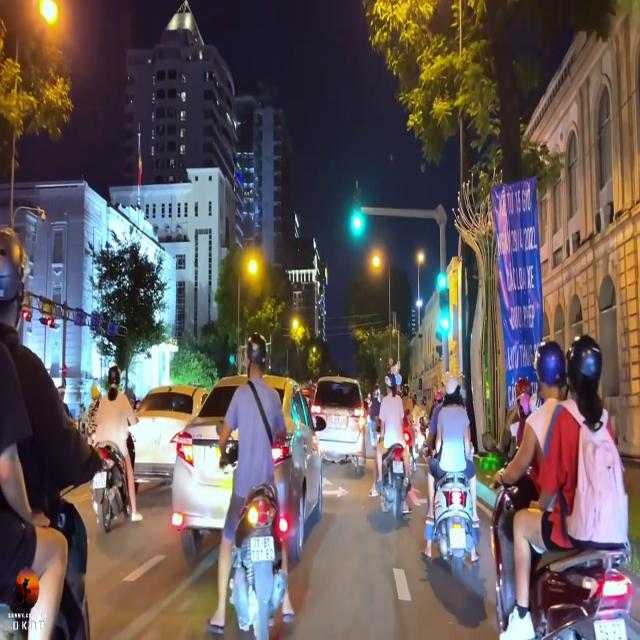bien_trang: (250, 535, 275, 562)
